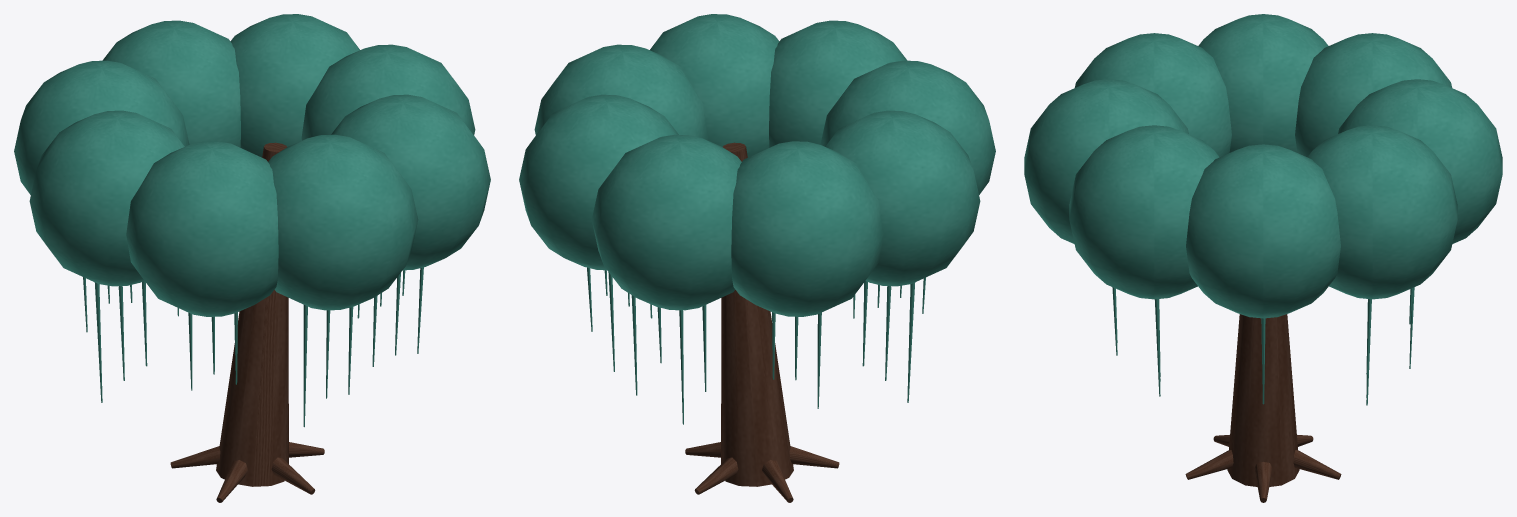
The model's file is willow.glb.
3 views of the same model, side by side, from view 1: azimuth 30°, elevation 25°; view 2: azimuth 150°, elevation 25°; view 3: azimuth 270°, elevation 25° (orthographic).
Visible parts, largest first — view 1: willow; view 2: willow; view 3: willow.
Boxes of the visible parts, x1=… form: willow: x1=14, y1=14, x2=490, y2=502; willow: x1=519, y1=14, x2=995, y2=502; willow: x1=1024, y1=14, x2=1502, y2=502.
Size of the model in its own units: 3.6 by 3.17 by 3.57.
2 materials, 2 textured.
